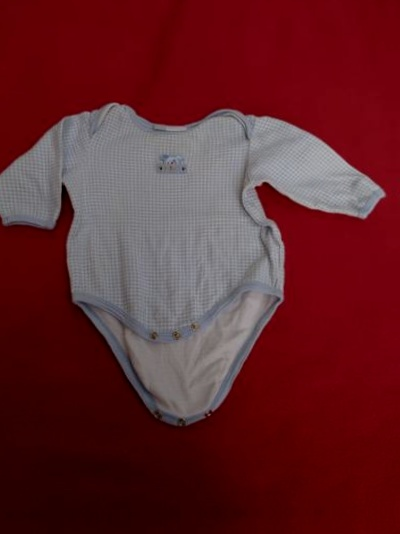Body: (1, 66, 390, 442), (400, 61, 400, 437)
